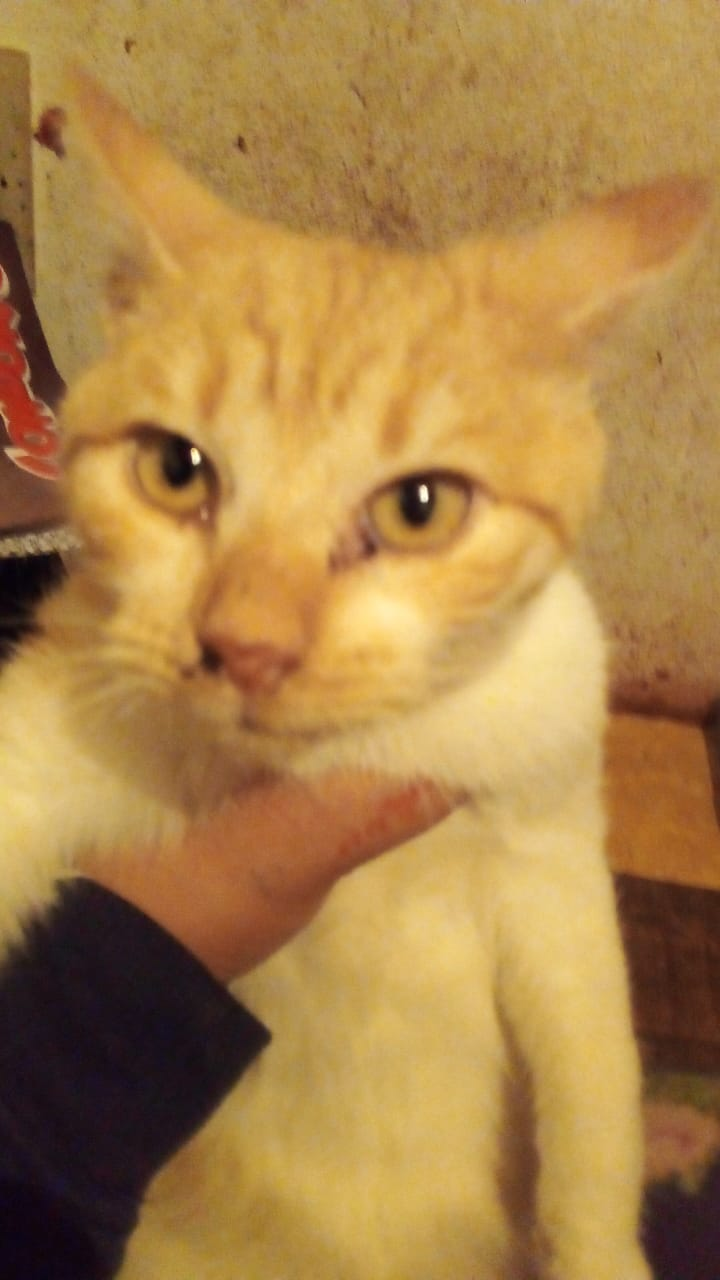cat: (11, 25, 692, 1249)
